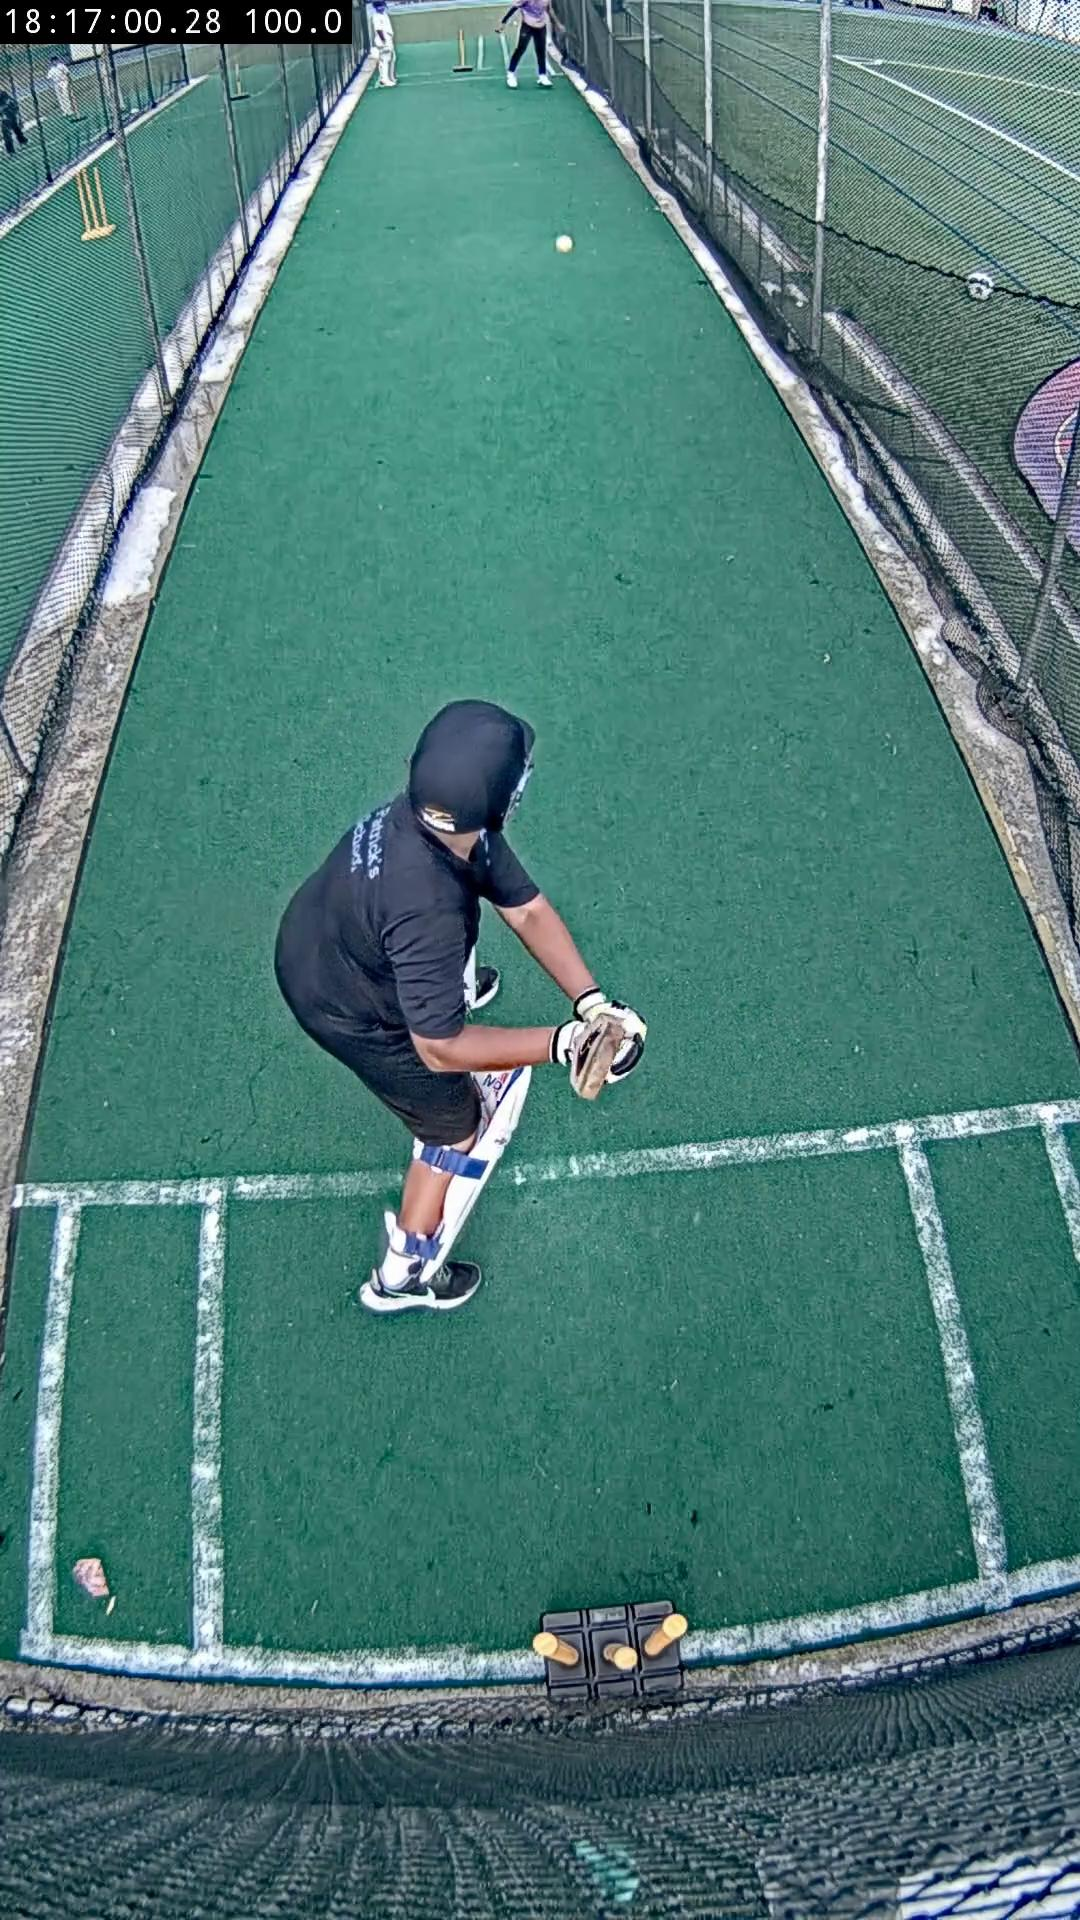ball: (555, 236, 574, 253)
bat: (570, 1017, 626, 1098)
gloves: (551, 990, 649, 1081)
helmet: (409, 702, 533, 832)
pads: (435, 1065, 533, 1258)
stumps: (543, 1601, 686, 1702)
